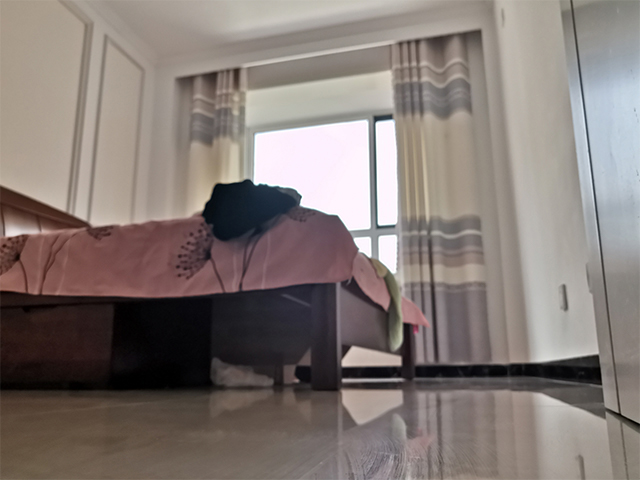bed: (1, 184, 431, 393)
curtain: (389, 27, 494, 367)
